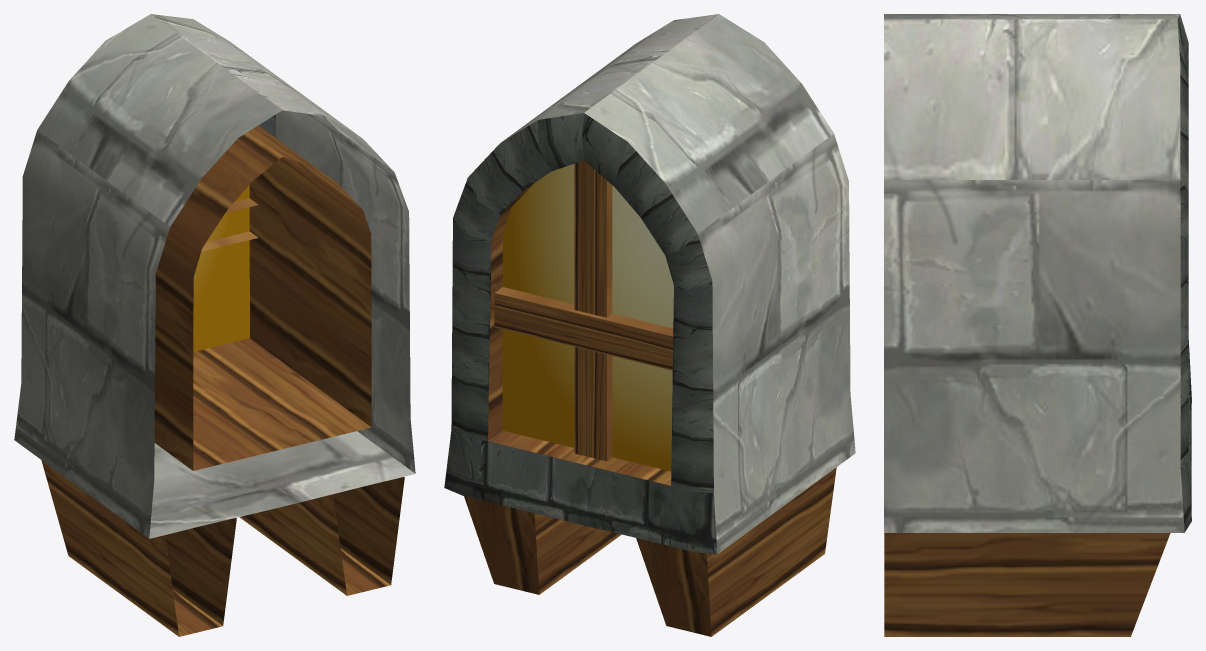
Rendered from Window_01.FBX.
The picture shows the model from 3 angles, left to right: view 1: azimuth 30°, elevation 25°; view 2: azimuth 150°, elevation 25°; view 3: azimuth 270°, elevation 25°; orthographic projection. The views are drawn at different scales.
Visible parts, largest first — view 1: Window_01, Glass; view 2: Window_01, Glass; view 3: Window_01.
Part boxes in pixels (left/top/right/bottom): Window_01: left=14, top=14, right=415, bottom=636; Glass: left=193, top=185, right=249, bottom=351; Window_01: left=444, top=14, right=855, bottom=636; Glass: left=502, top=164, right=673, bottom=471; Window_01: left=884, top=14, right=1191, bottom=636.
Bounding box in the file's own units: 43.53 × 78.3 × 39.12.
